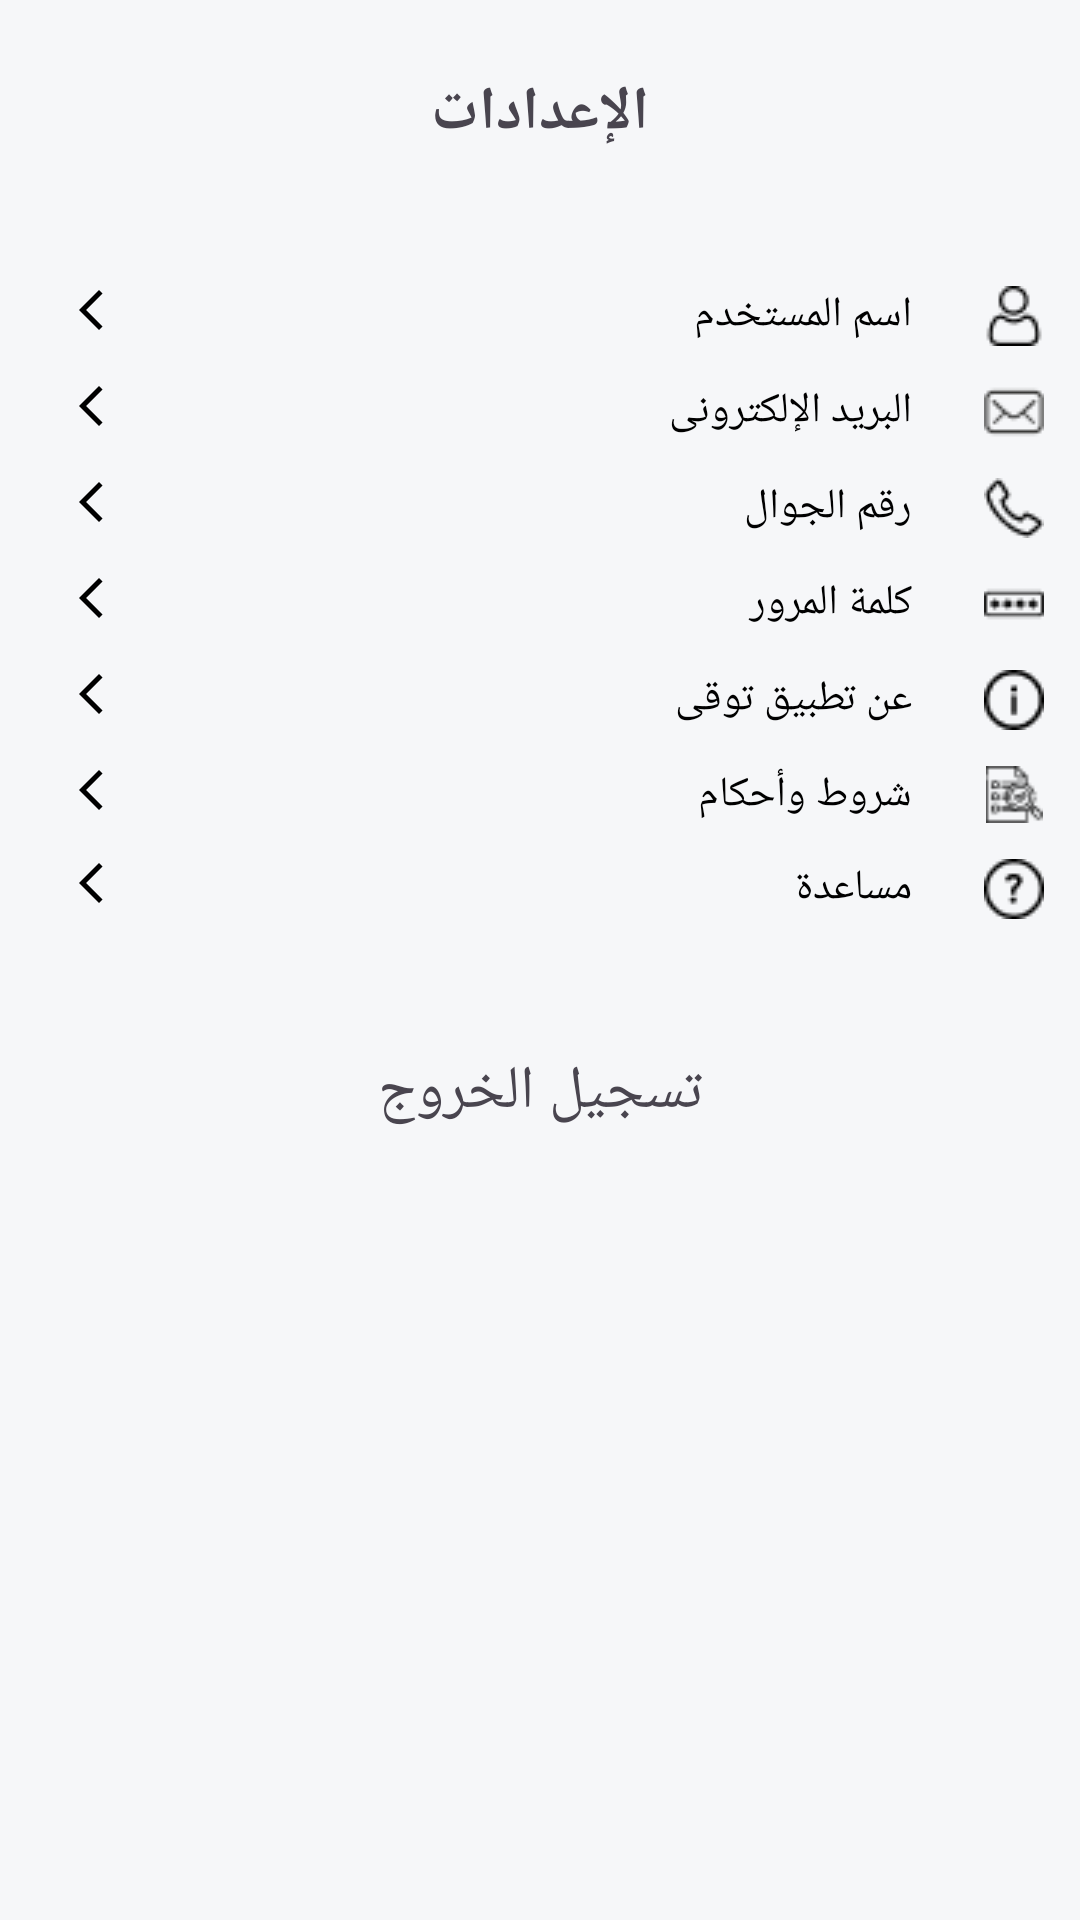

Icons on this 1080px x 1920px Android screen, each with its box as {"left": x1, "top": y1, "right": x2, "bottom": y2}:
about app: {"left": 984, "top": 670, "right": 1044, "bottom": 730}
email: {"left": 984, "top": 389, "right": 1044, "bottom": 435}
forward: {"left": 79, "top": 290, "right": 103, "bottom": 330}, {"left": 79, "top": 386, "right": 103, "bottom": 426}, {"left": 79, "top": 482, "right": 103, "bottom": 522}, {"left": 79, "top": 578, "right": 103, "bottom": 618}, {"left": 79, "top": 674, "right": 103, "bottom": 714}, {"left": 79, "top": 770, "right": 103, "bottom": 810}, {"left": 79, "top": 863, "right": 103, "bottom": 903}
name user: {"left": 986, "top": 286, "right": 1042, "bottom": 346}
need helping: {"left": 984, "top": 859, "right": 1044, "bottom": 919}
pass: {"left": 984, "top": 590, "right": 1044, "bottom": 618}
phone: {"left": 984, "top": 478, "right": 1044, "bottom": 538}
terms: {"left": 986, "top": 766, "right": 1043, "bottom": 823}
